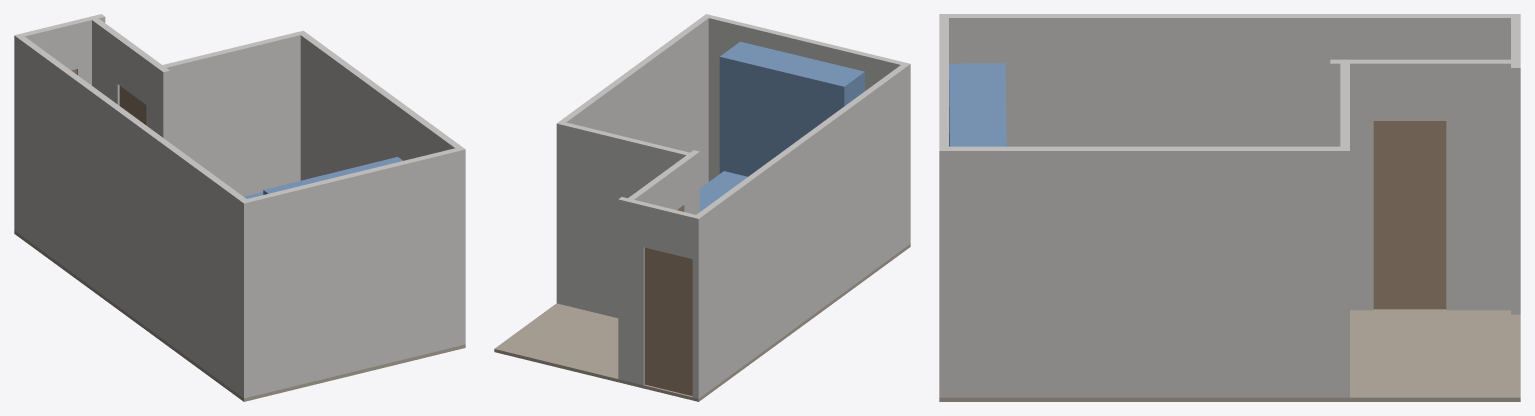
File: room_197.glb
3 renders of one model, left to right at view 1: azimuth 30°, elevation 25°; view 2: azimuth 150°, elevation 25°; view 3: azimuth 270°, elevation 25°, orthographic. The views are drawn at different scales.
Visible parts, largest first — view 1: shell_wall_2_s0, shell_wall_3_s0, shell_wall_5_s0, shell_wall_4_s0, shell_wall_0_s2, shell_floor, shell_wall_0_s0, shell_wall_1_s1, shell_wall_0_s1, shell_wall_1_s0, obj_002, shell_wall_1_s2 (+1 smaller); view 2: shell_wall_2_s0, shell_wall_5_s0, obj_002, shell_wall_4_s0, shell_floor, shell_wall_1_door, shell_wall_3_s0, shell_wall_1_s0, shell_wall_1_s1, shell_wall_1_s2, shell_wall_0_s2, shell_wall_0_s1 (+2 smaller); view 3: shell_wall_4_s0, shell_wall_2_s0, shell_floor, shell_wall_0_s2, shell_wall_0_door, shell_wall_0_s0, obj_002, shell_wall_0_s1, shell_wall_3_s0, shell_wall_1_s0, shell_wall_5_s0.
Part boxes in pixels (x1=…): shell_wall_2_s0: x1=14, y1=35, x2=250, y2=398; shell_wall_3_s0: x1=240, y1=147, x2=465, y2=397; shell_wall_5_s0: x1=156, y1=31, x2=306, y2=196; shell_wall_4_s0: x1=297, y1=30, x2=465, y2=345; shell_wall_0_s2: x1=88, y1=15, x2=123, y2=105; shell_floor: x1=14, y1=230, x2=465, y2=401; shell_wall_0_s0: x1=146, y1=58, x2=169, y2=142; shell_wall_1_s1: x1=21, y1=21, x2=77, y2=70; shell_wall_0_s1: x1=117, y1=37, x2=152, y2=104; shell_wall_1_s0: x1=74, y1=14, x2=105, y2=85; obj_002: x1=263, y1=157, x2=402, y2=194; shell_wall_1_s2: x1=14, y1=33, x2=24, y2=232; shell_wall_2_s0: x1=696, y1=63, x2=910, y2=396; shell_wall_5_s0: x1=556, y1=122, x2=695, y2=318; obj_002: x1=719, y1=41, x2=864, y2=176; shell_wall_4_s0: x1=556, y1=14, x2=708, y2=303; shell_floor: x1=494, y1=244, x2=910, y2=401; shell_wall_1_door: x1=644, y1=247, x2=692, y2=395; shell_wall_3_s0: x1=703, y1=14, x2=910, y2=245; shell_wall_1_s0: x1=618, y1=197, x2=646, y2=385; shell_wall_1_s1: x1=643, y1=203, x2=695, y2=258; shell_wall_1_s2: x1=692, y1=215, x2=702, y2=398; shell_wall_0_s2: x1=624, y1=181, x2=657, y2=381; shell_wall_0_s1: x1=652, y1=161, x2=684, y2=209; shell_wall_4_s0: x1=939, y1=146, x2=1349, y2=397; shell_wall_2_s0: x1=939, y1=14, x2=1520, y2=146; shell_floor: x1=939, y1=309, x2=1520, y2=401; shell_wall_0_s2: x1=1446, y1=59, x2=1520, y2=310; shell_wall_0_door: x1=1373, y1=121, x2=1446, y2=309; shell_wall_0_s0: x1=1330, y1=59, x2=1373, y2=310; obj_002: x1=949, y1=63, x2=1006, y2=146; shell_wall_0_s1: x1=1373, y1=59, x2=1446, y2=120; shell_wall_3_s0: x1=939, y1=14, x2=948, y2=397; shell_wall_1_s0: x1=1511, y1=51, x2=1520, y2=314; shell_wall_5_s0: x1=1340, y1=59, x2=1349, y2=397.
Size of the model in its own units: 3.33 by 2.85 by 5.98.
